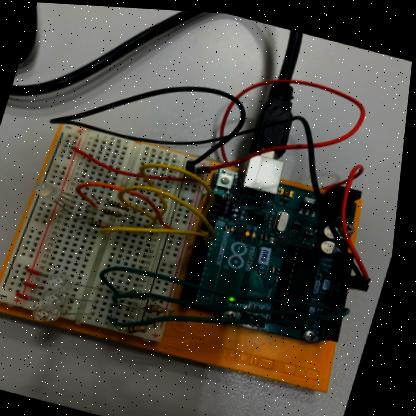5V: (216, 72, 374, 162), (339, 178, 380, 284)
ARDUINO: (185, 163, 360, 349)
Breadboard: (0, 121, 215, 343)
GND: (247, 107, 379, 287), (43, 78, 252, 145)
LED: (37, 181, 65, 200)
Long wire: (102, 257, 350, 308), (115, 289, 360, 317), (116, 179, 223, 243), (138, 158, 220, 234), (76, 177, 186, 229), (70, 143, 200, 182), (109, 309, 326, 326), (102, 220, 221, 246)
Phototransistor: (46, 288, 74, 305), (38, 304, 66, 321), (53, 272, 79, 289)
Resistor: (120, 284, 165, 299), (132, 321, 162, 332), (111, 198, 134, 208), (105, 206, 127, 216), (148, 303, 175, 311), (92, 219, 114, 227)
Short wire: (21, 292, 45, 300), (31, 267, 46, 275), (28, 281, 43, 288)
